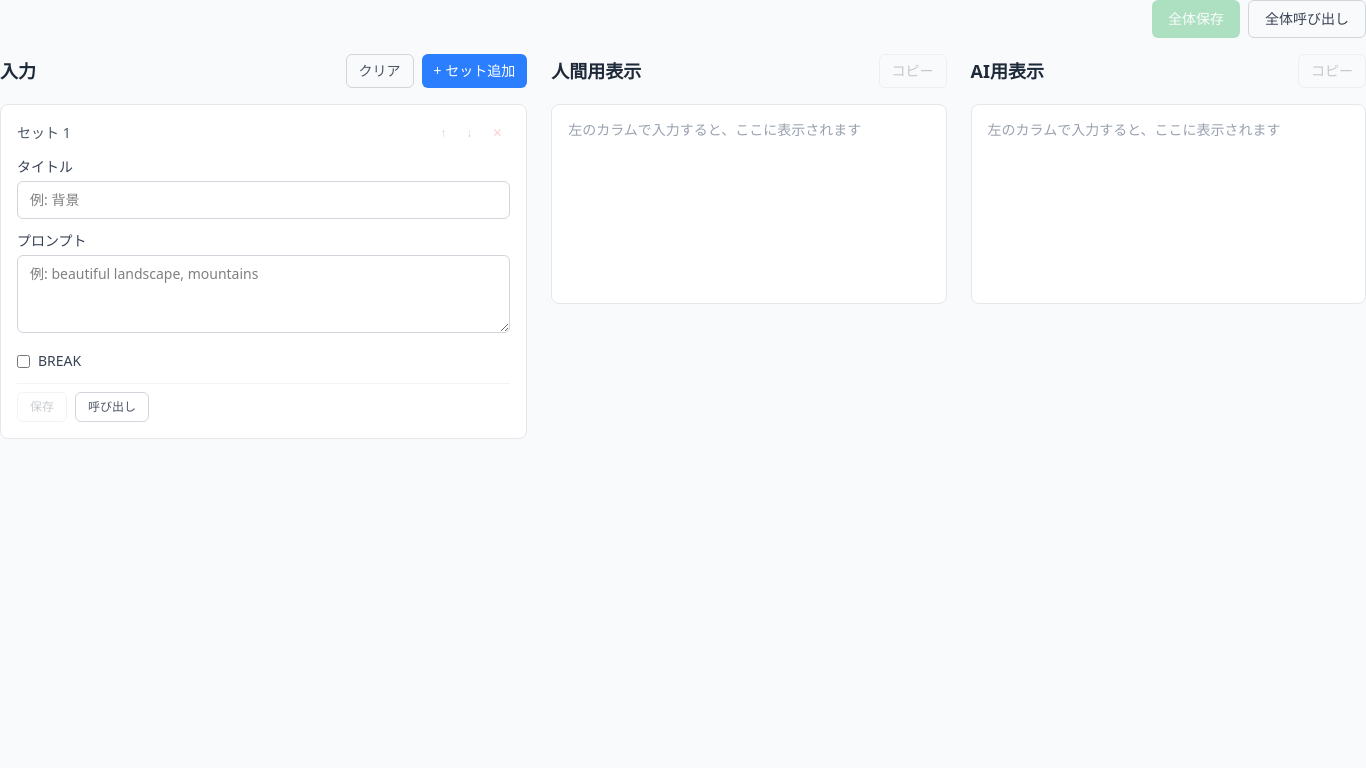
it: PromptGenerator › 全体保存ボタンでBundleSaveDialogが開く
The width and height of the screenshot is (1366, 768).
Type "test" into the text box labelled "プロンプト". click: [264, 294]
box: [17,255,510,333]
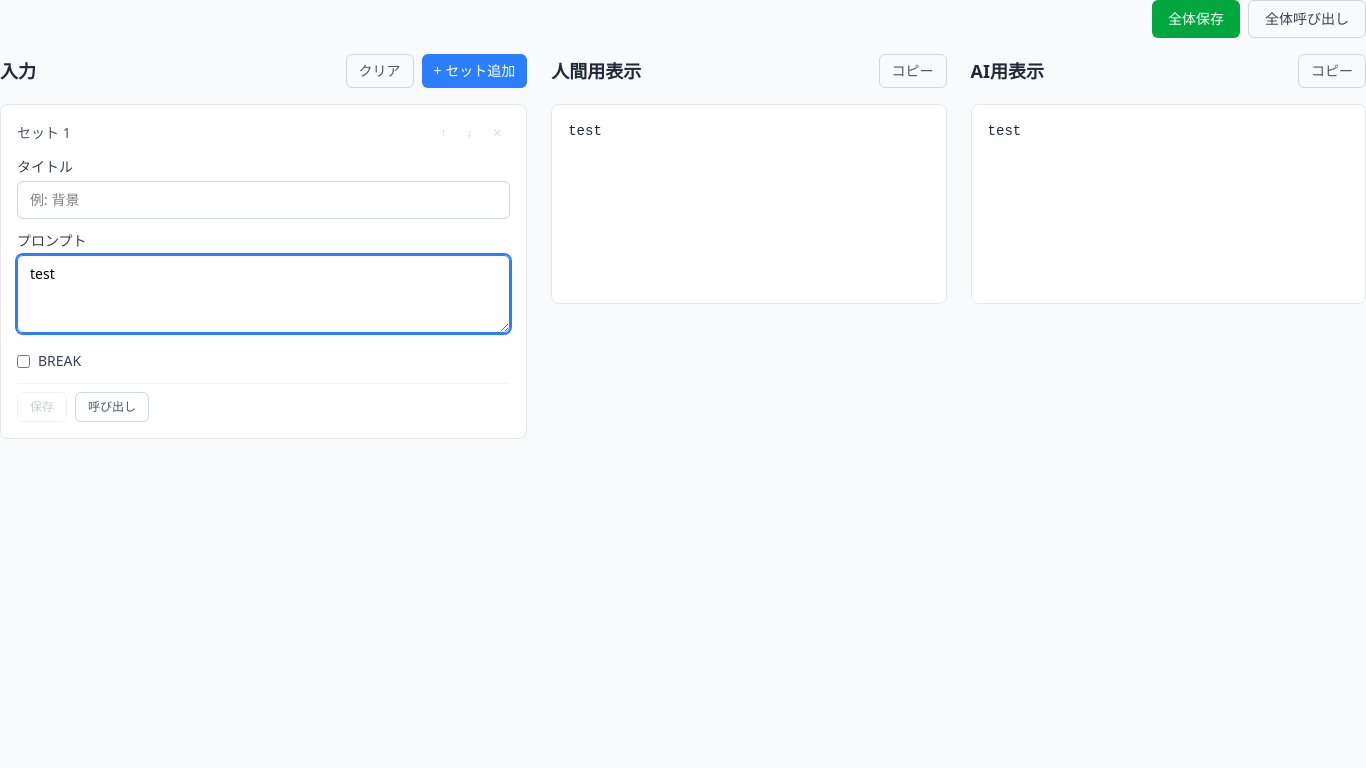
Click the button "全体保存". click: [1196, 19]
box: [1152,0,1240,38]
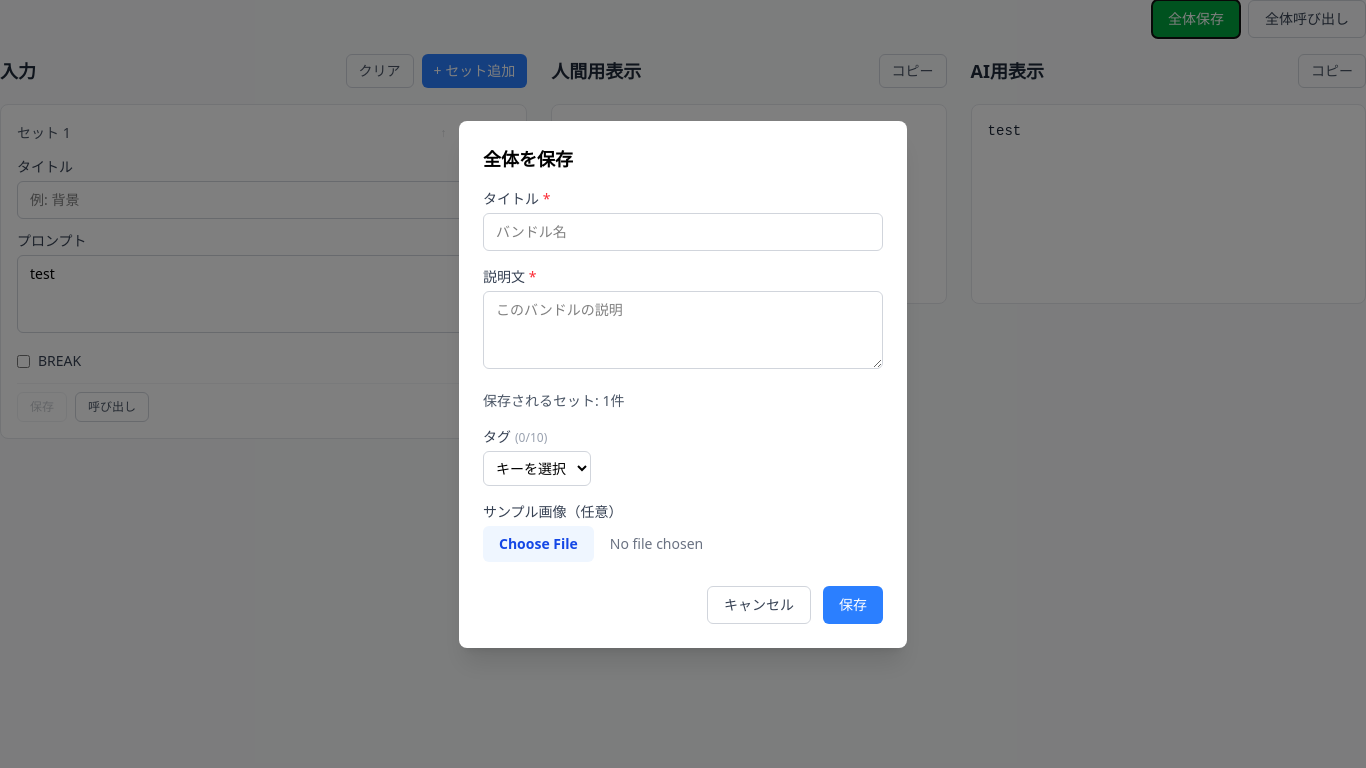
Now the heading "全体を保存" is shown, box [483,146,573,170]
